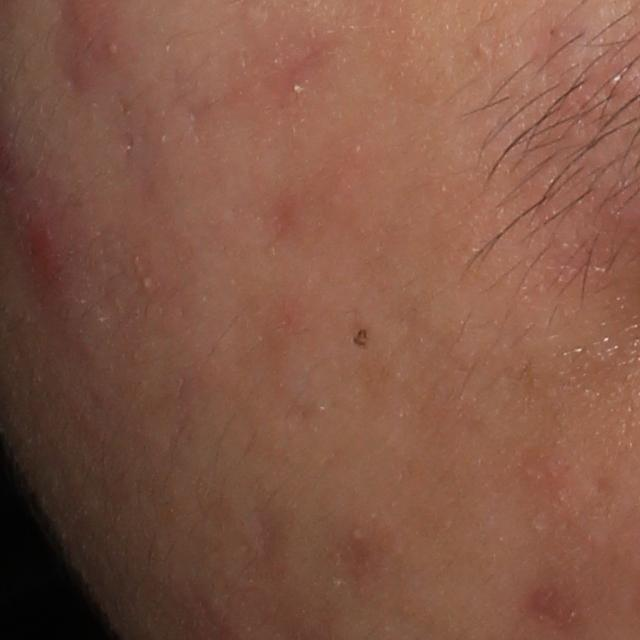comedo: (349, 525, 367, 544)
nevus: (351, 326, 371, 352)
